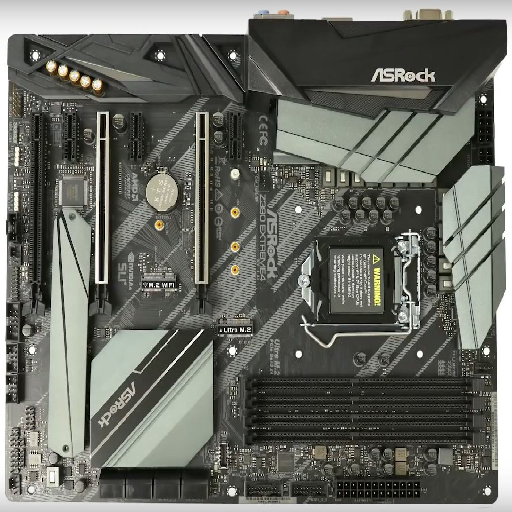CPU: (299, 233, 420, 330)
GPU: (188, 110, 215, 317), (88, 110, 113, 316)
MOTHERBOARD: (6, 32, 499, 504)
RAM: (244, 375, 489, 447)
SSD: (140, 269, 182, 297), (217, 313, 252, 340)
